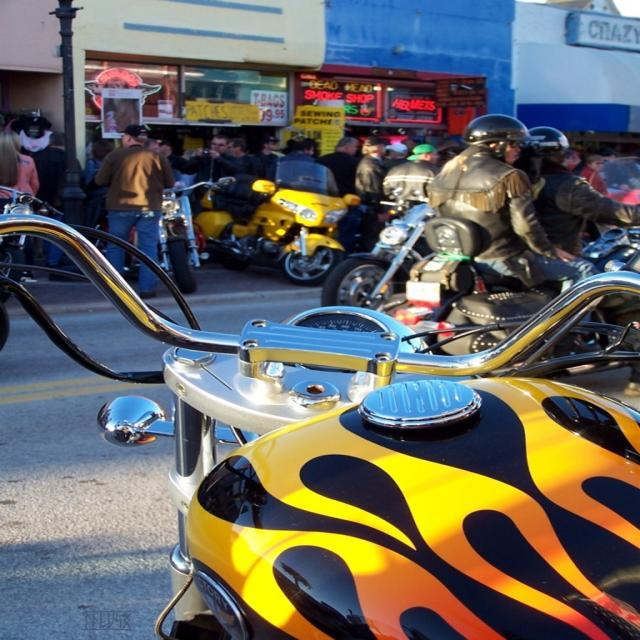bus: (61, 205, 640, 640), (381, 218, 635, 380), (192, 161, 364, 290), (90, 172, 232, 294), (322, 185, 428, 317), (0, 188, 68, 288)
